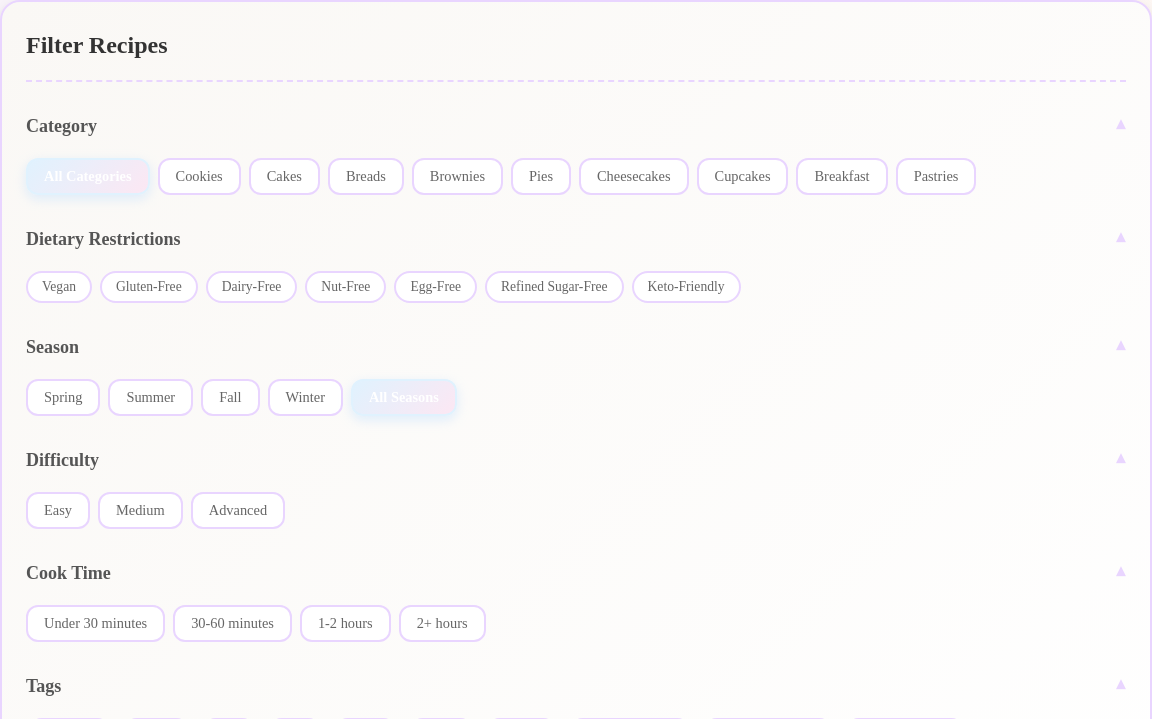
Test: RecipeFilters Component › should collapse dietary section when toggle clicked
// Click to collapse (covers line 146)
Click the button with aria-label "toggle dietary filters": (103, 239) [26,219,1126,259]
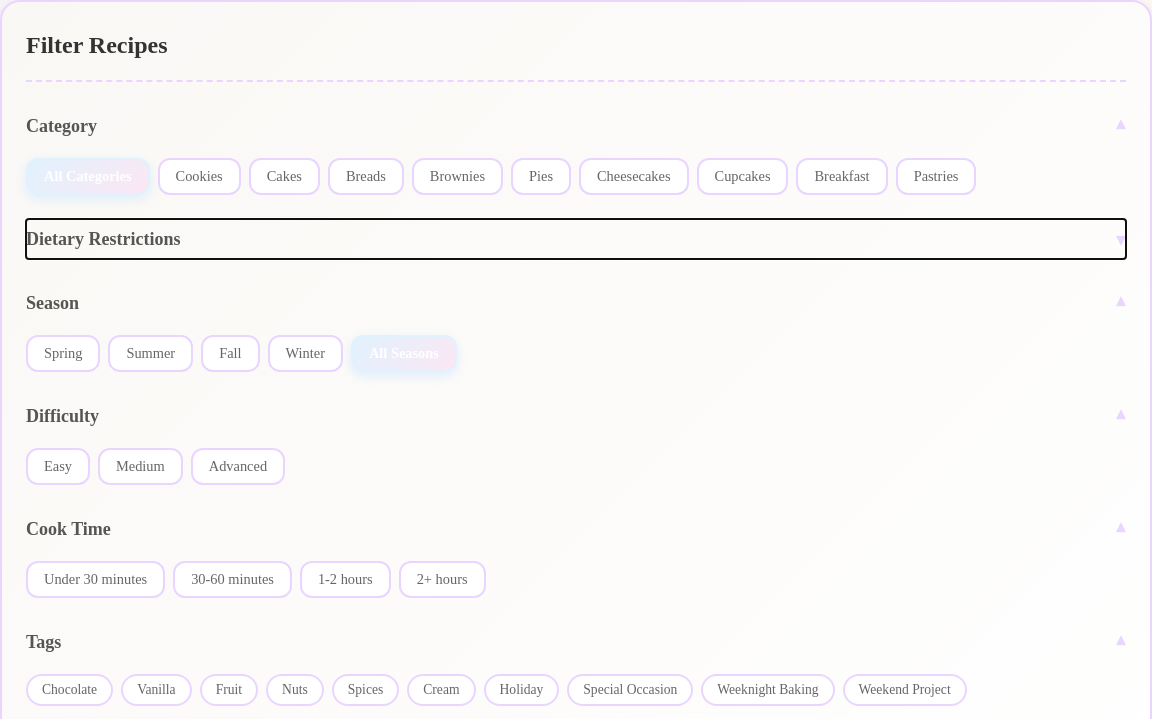
Now the button "Vegan" is gone
